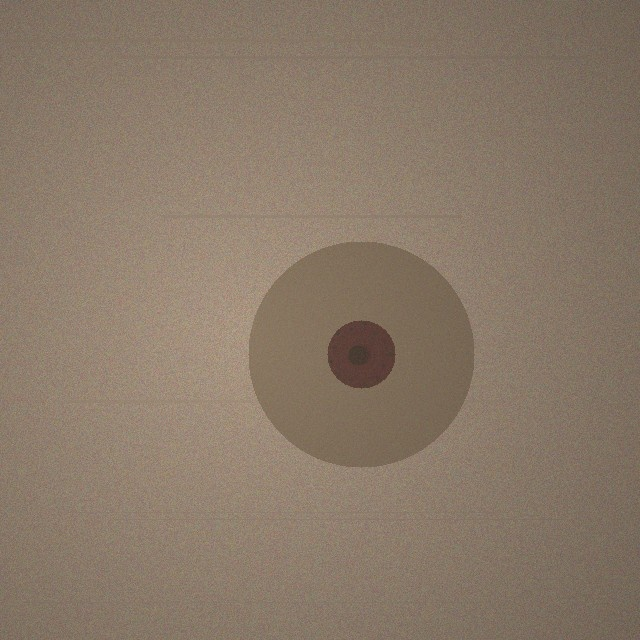cold_weld: (248, 241, 474, 467)
